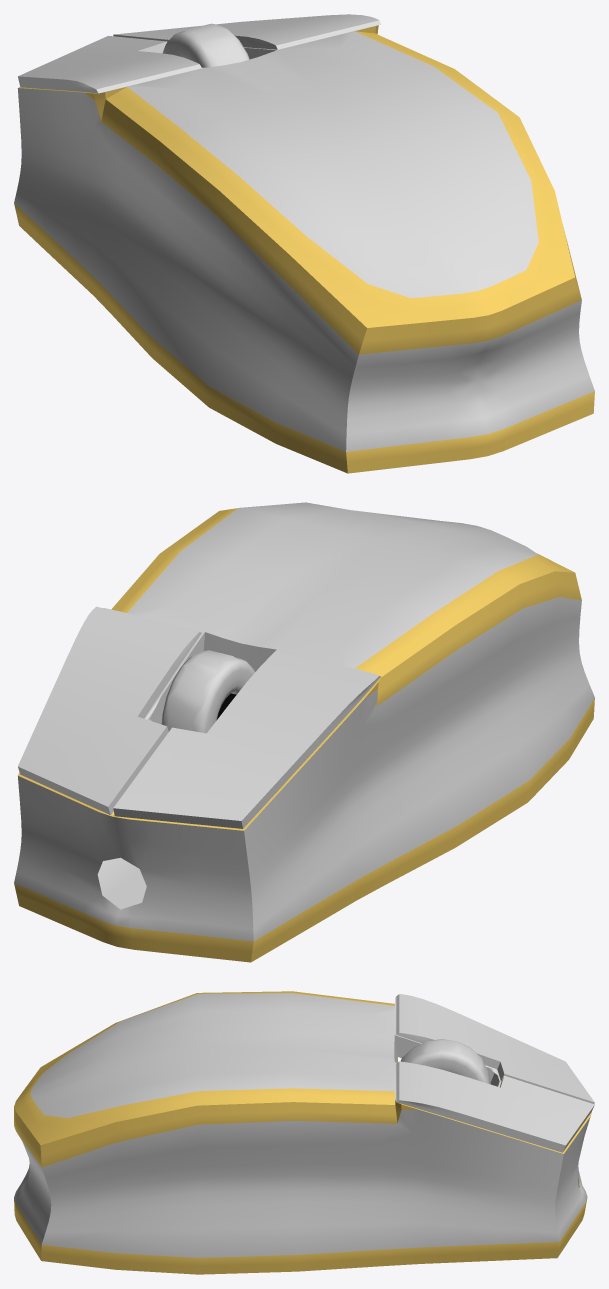
The model's file is Mouse.fbx.
The picture shows the model from 3 angles, top to bottom: view 1: azimuth 30°, elevation 25°; view 2: azimuth 150°, elevation 25°; view 3: azimuth 270°, elevation 25°; orthographic projection. The views are drawn at different scales.
Parts seen in each view (by area): view 1: ScrollerBarring, Scroller; view 2: ScrollerBarring, Scroller; view 3: ScrollerBarring, Scroller.
Boxes of the visible parts, bbox=[...] form: ScrollerBarring: bbox=[14, 14, 594, 473]; Scroller: bbox=[162, 23, 249, 67]; ScrollerBarring: bbox=[14, 502, 594, 962]; Scroller: bbox=[161, 650, 254, 733]; ScrollerBarring: bbox=[14, 991, 594, 1274]; Scroller: bbox=[400, 1039, 491, 1084].
Size of the model in its own units: 20.56 by 14.25 by 41.76.
